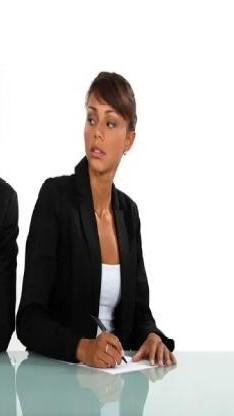cheating: (23, 58, 187, 383)
